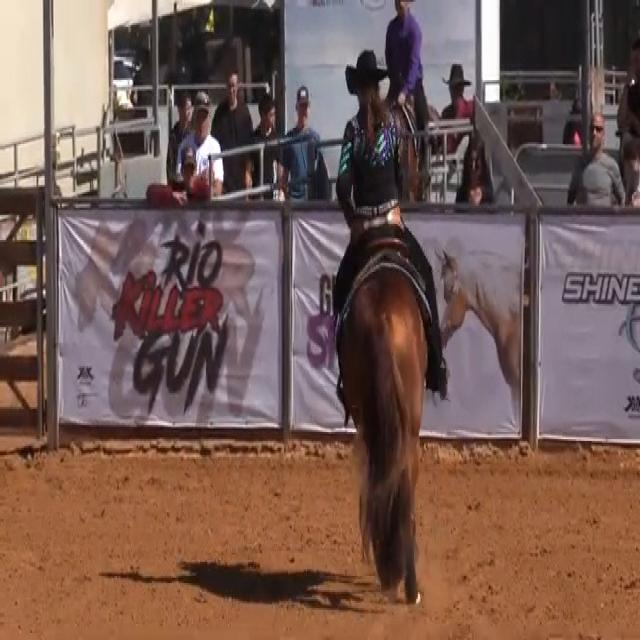horse: (334, 212, 432, 604)
